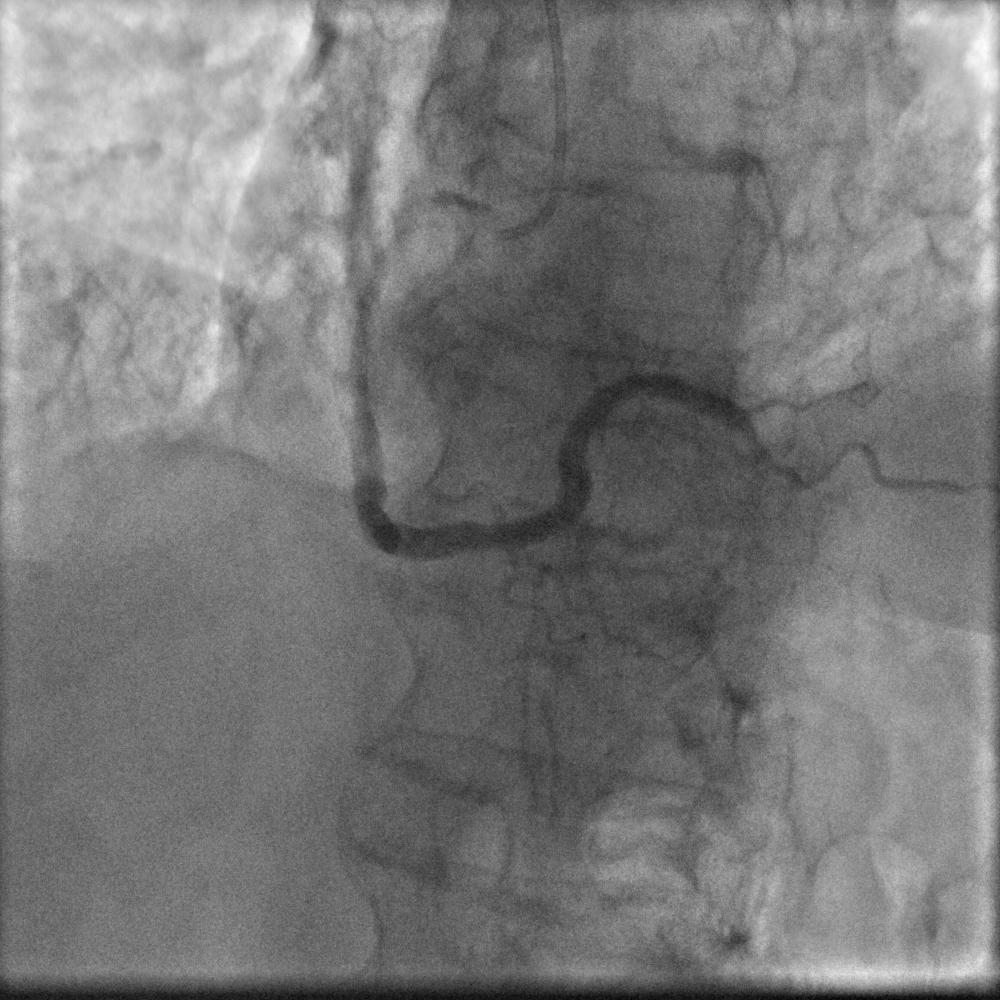Stenosis: (736, 394, 782, 491)
